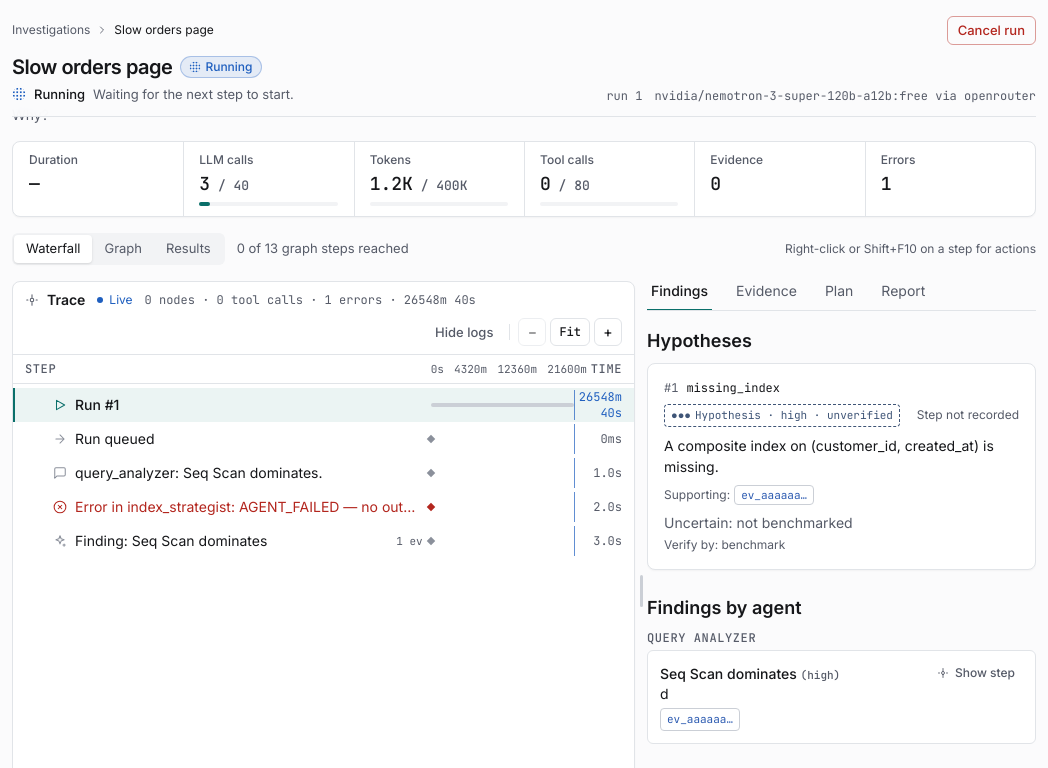
a finding's Show step selects the trace row that recorded it and opens its details
expect the text "Step not recorded" is shown: met, box [917,407,1019,423]
Click the button "Show step".
click(976, 673)  # box [929,663,1023,683]
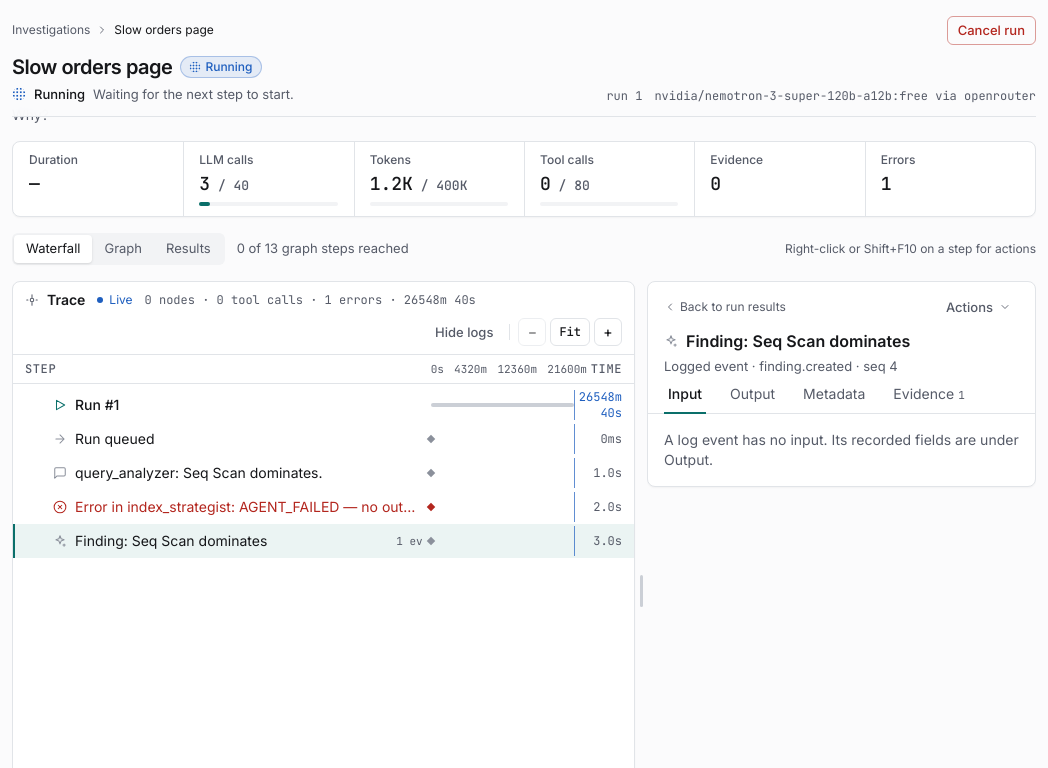
expect the button "Back to run results" is shown: met, box [664,299,786,315]
